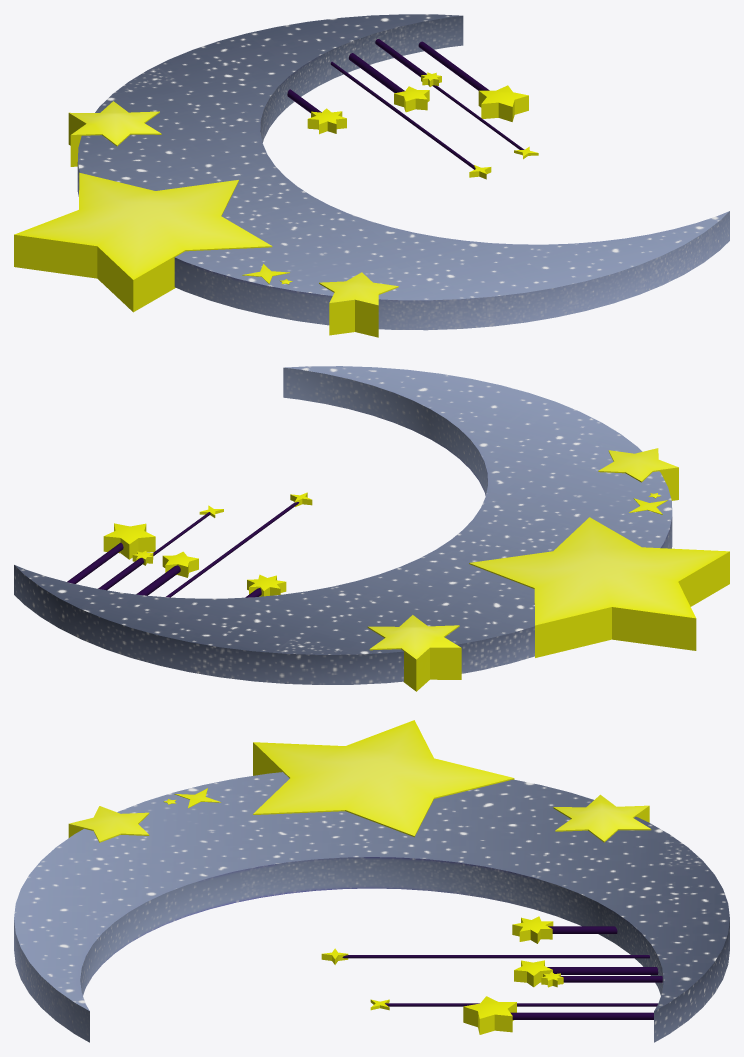
Rendered from TablaSurfLuna.fbx.
3 views of the same model, one above another, from view 1: azimuth 30°, elevation 25°; view 2: azimuth 150°, elevation 25°; view 3: azimuth 270°, elevation 25° (orthographic). The views are drawn at different scales.
Parts seen in each view (by area): view 1: Circle.001; view 2: Circle.001; view 3: Circle.001.
Part boxes in pixels (bbox=[...]): Circle.001: bbox=[14, 14, 729, 337]; Circle.001: bbox=[14, 366, 729, 691]; Circle.001: bbox=[14, 720, 729, 1042].
Bounding box in the file's own units: 380 × 37.79 × 396.
1 material, 1 textured.
